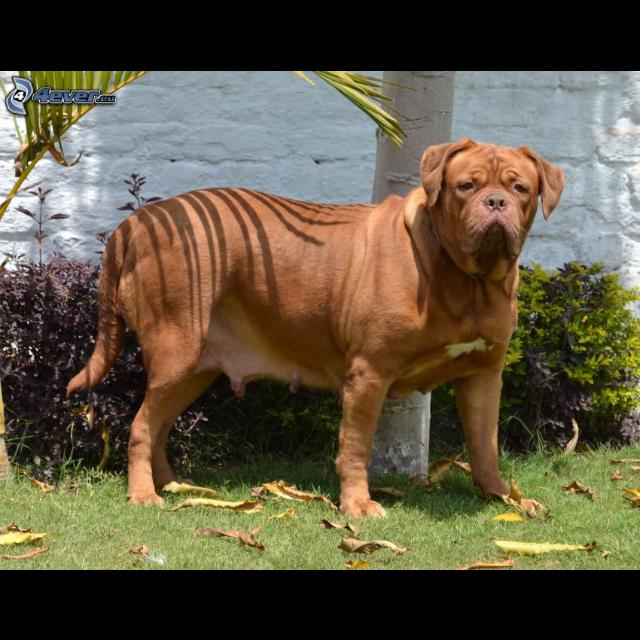dogue_de_bordeaux: (65, 136, 565, 520)
